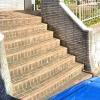stairs: (0, 16, 84, 100)
